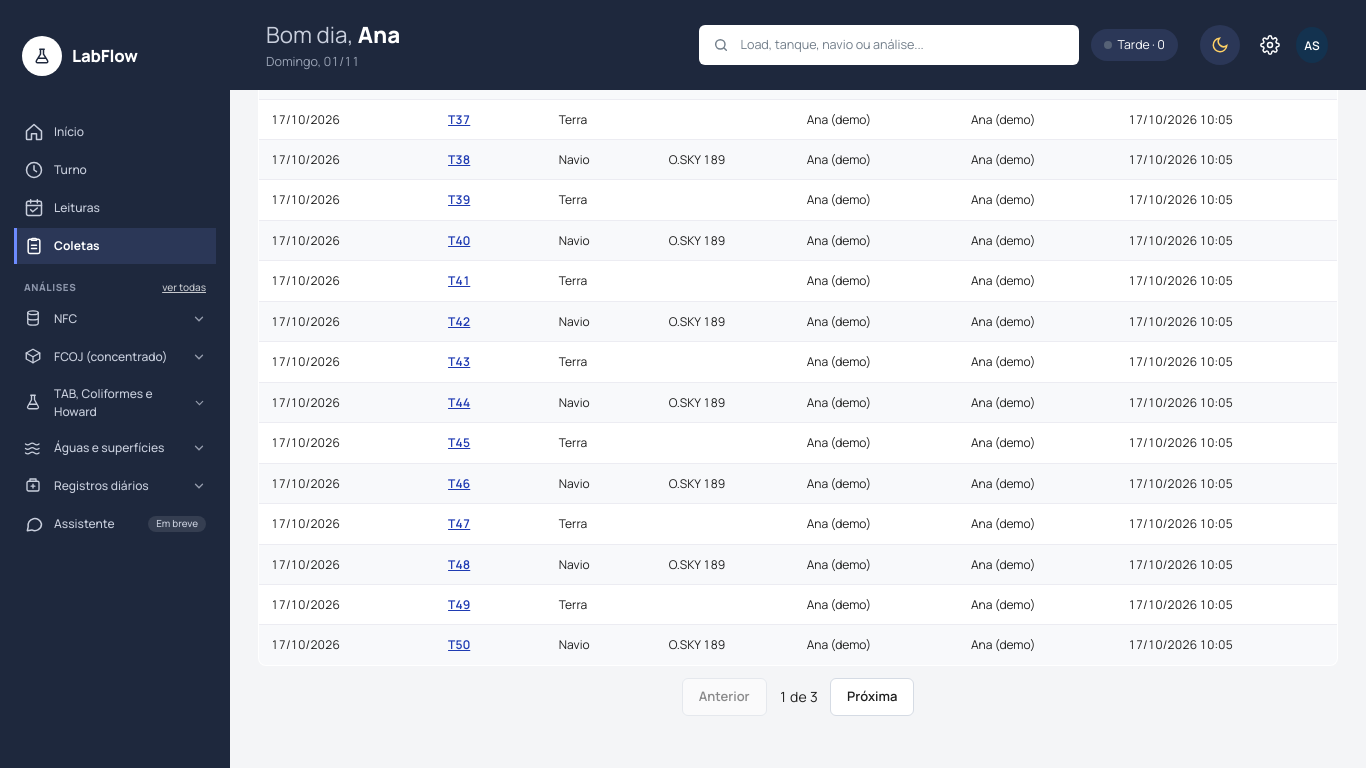
Scenario: Páginas: Coletas e Recebimento (APP-015) › Próxima e Anterior mudam a página
This screenshot has width=1366, height=768.
(page scrolled)
Click the button "Próxima".
click(872, 697)  # box x1=830 y1=678 x2=914 y2=716
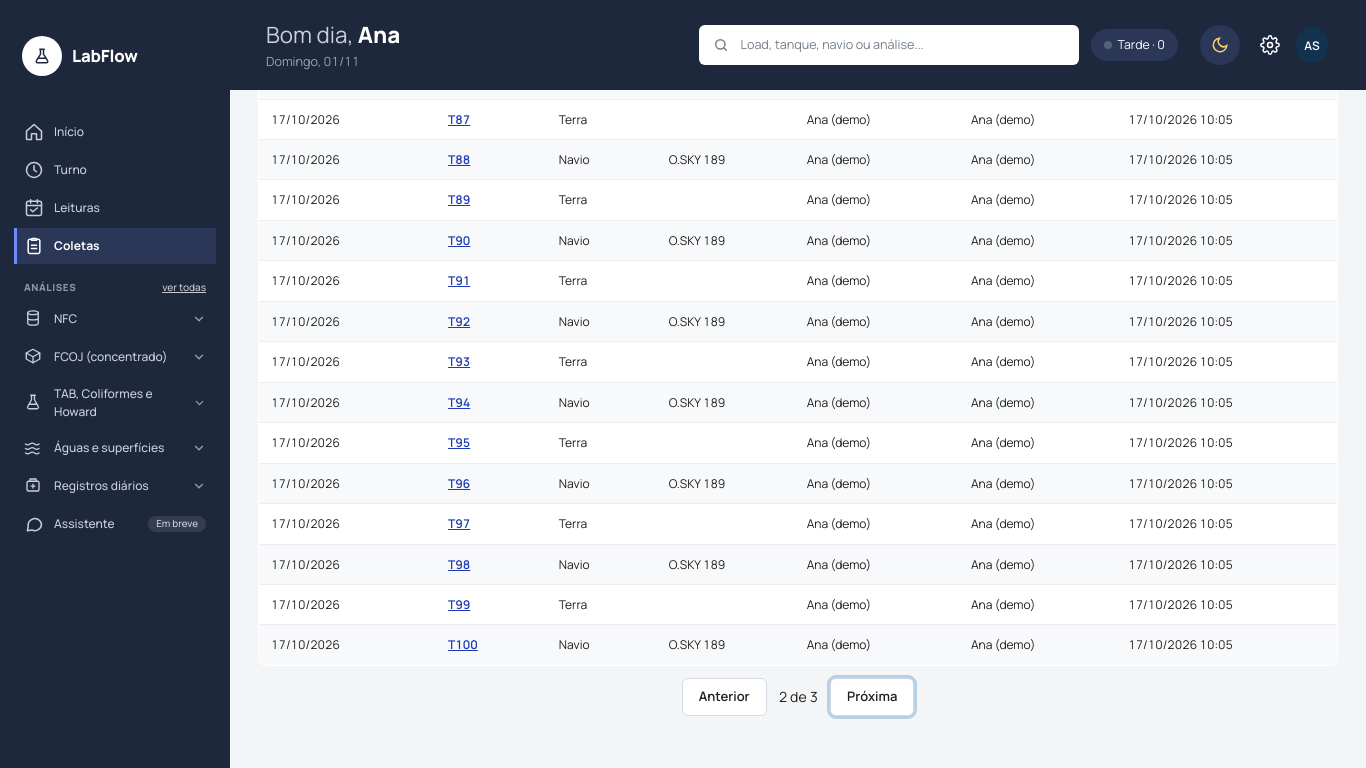
Click the button "Anterior".
click(724, 697)  # box x1=682 y1=678 x2=767 y2=716
(page scrolled)
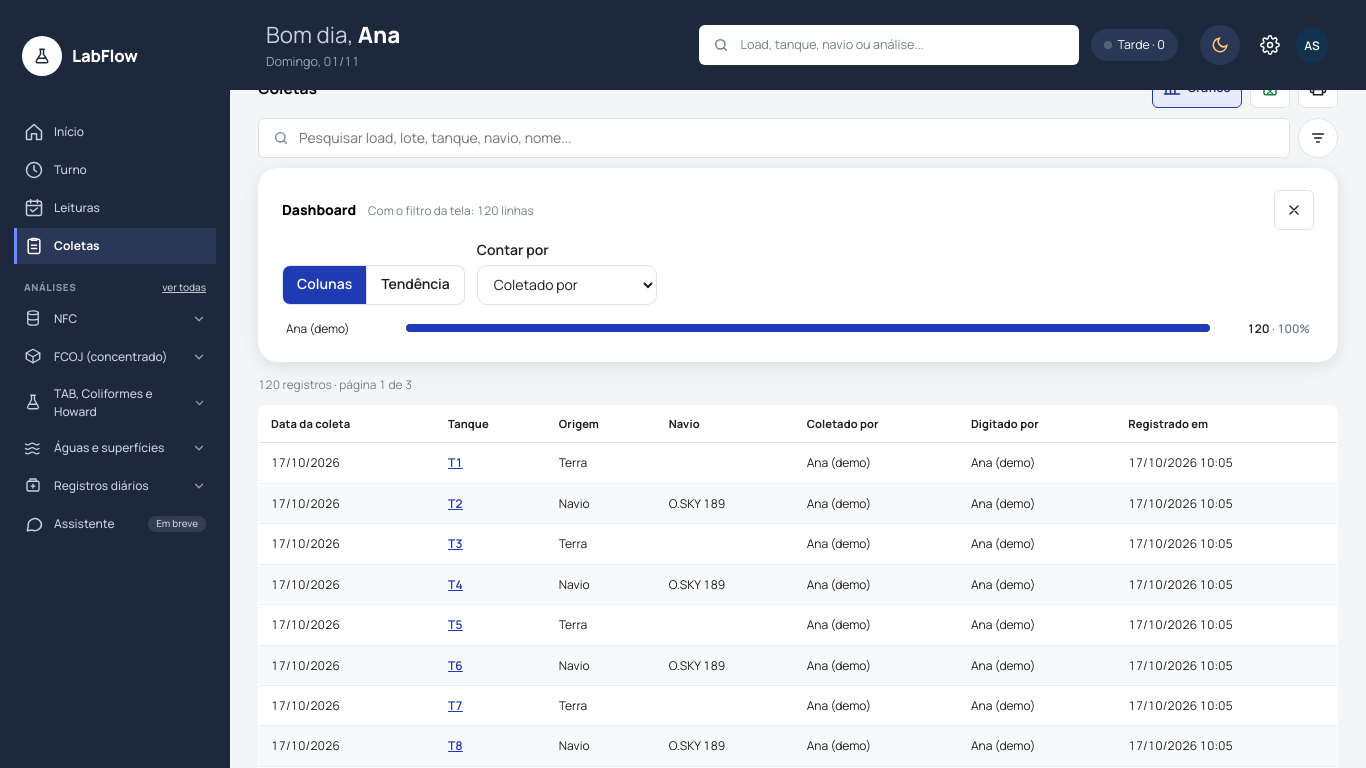
Now the text "120 registros · página 1 de 3" is shown, box x1=258 y1=376 x2=412 y2=393
